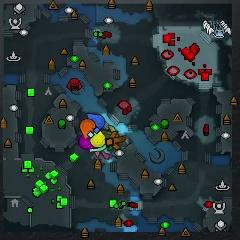p1: (87, 113, 105, 130)
p2: (89, 145, 107, 153)
p3: (79, 135, 95, 150)
p4: (90, 130, 106, 148)
p5: (80, 118, 96, 140)
x1: (94, 150, 110, 160)
x2: (106, 125, 116, 134)
x4: (102, 134, 113, 150)
x5: (109, 132, 126, 150)
